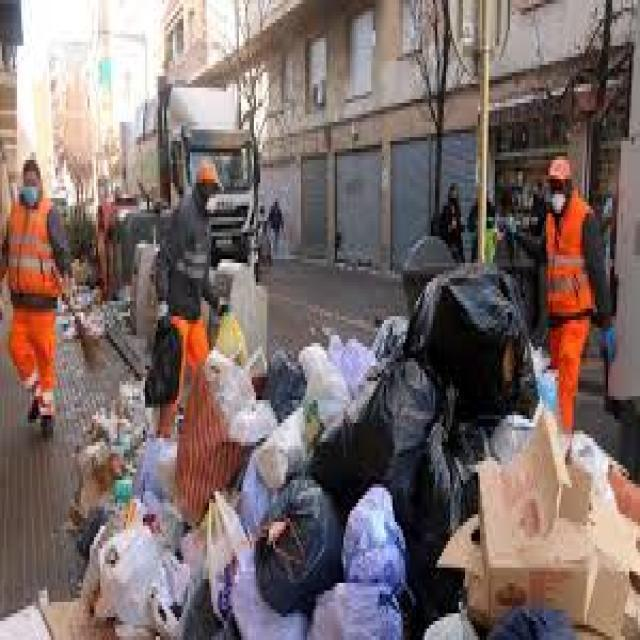high trash: (0, 271, 640, 640)
